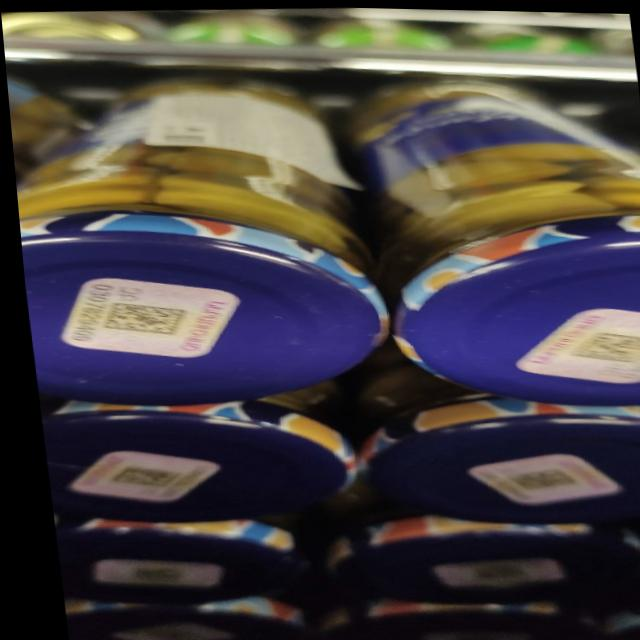datamatrix: (91, 298, 183, 338)
